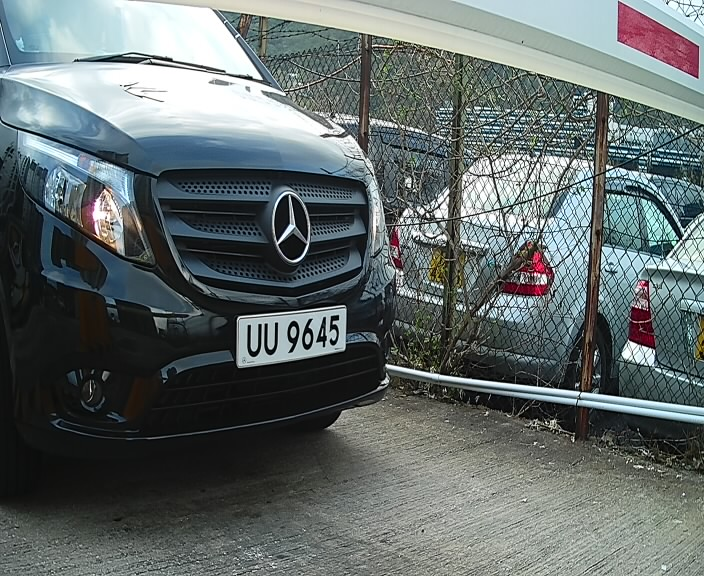License Plate: (232, 296, 351, 374)
